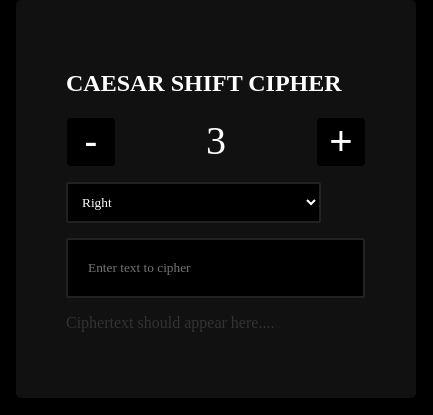
Test: CaesarCipher Component › increments shift using buttons
Click the button "+": (341,142) [316,117,366,167]
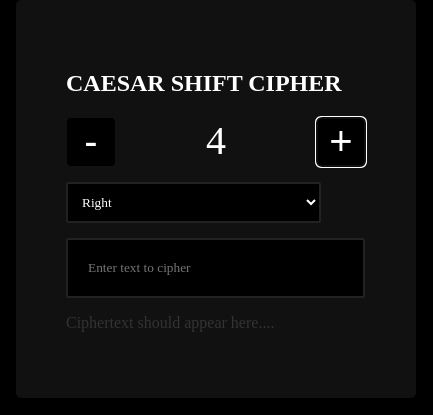
Now the text "4" is shown, box [206,117,226,167]
